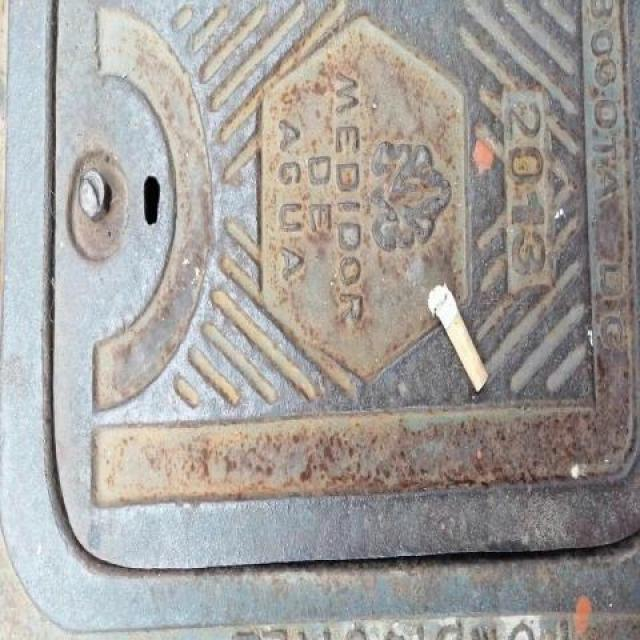non-organic waste: (423, 280, 492, 396)
